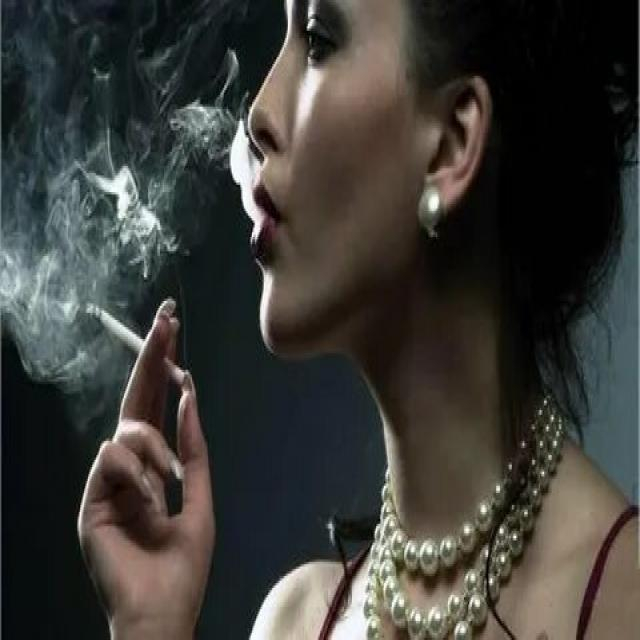cigarette: (83, 296, 188, 389)
